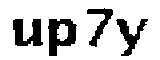7: (84, 5, 114, 50)
p: (44, 16, 76, 60)
u: (9, 14, 44, 48)
y: (116, 16, 149, 60)
